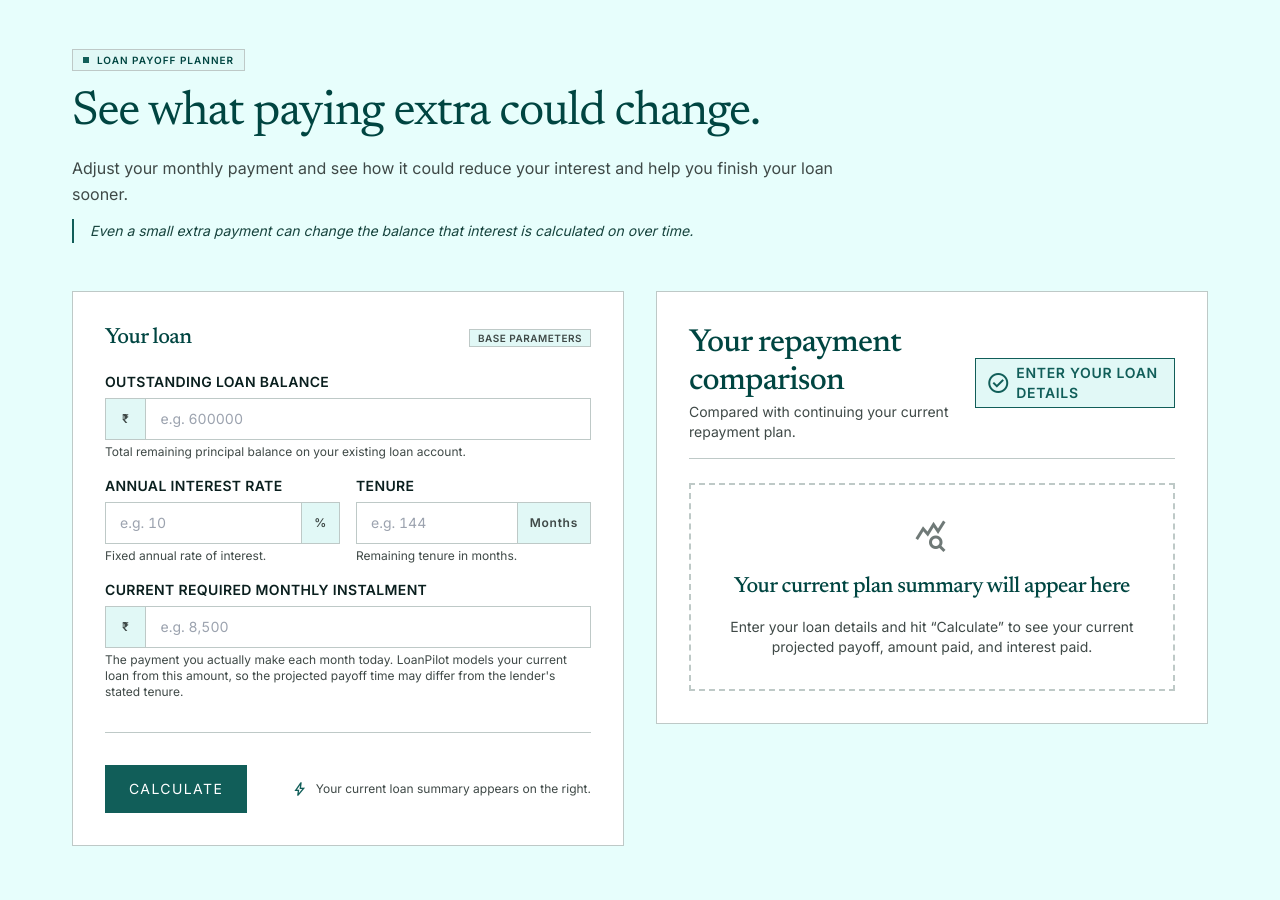
Test: EMI guidance and auto-scroll › scrolls to the current plan after the first successful baseline calculation
Type "8000" into the field labelled "Current required monthly instalment" at (368, 627), box left=146, top=607, right=590, bottom=647
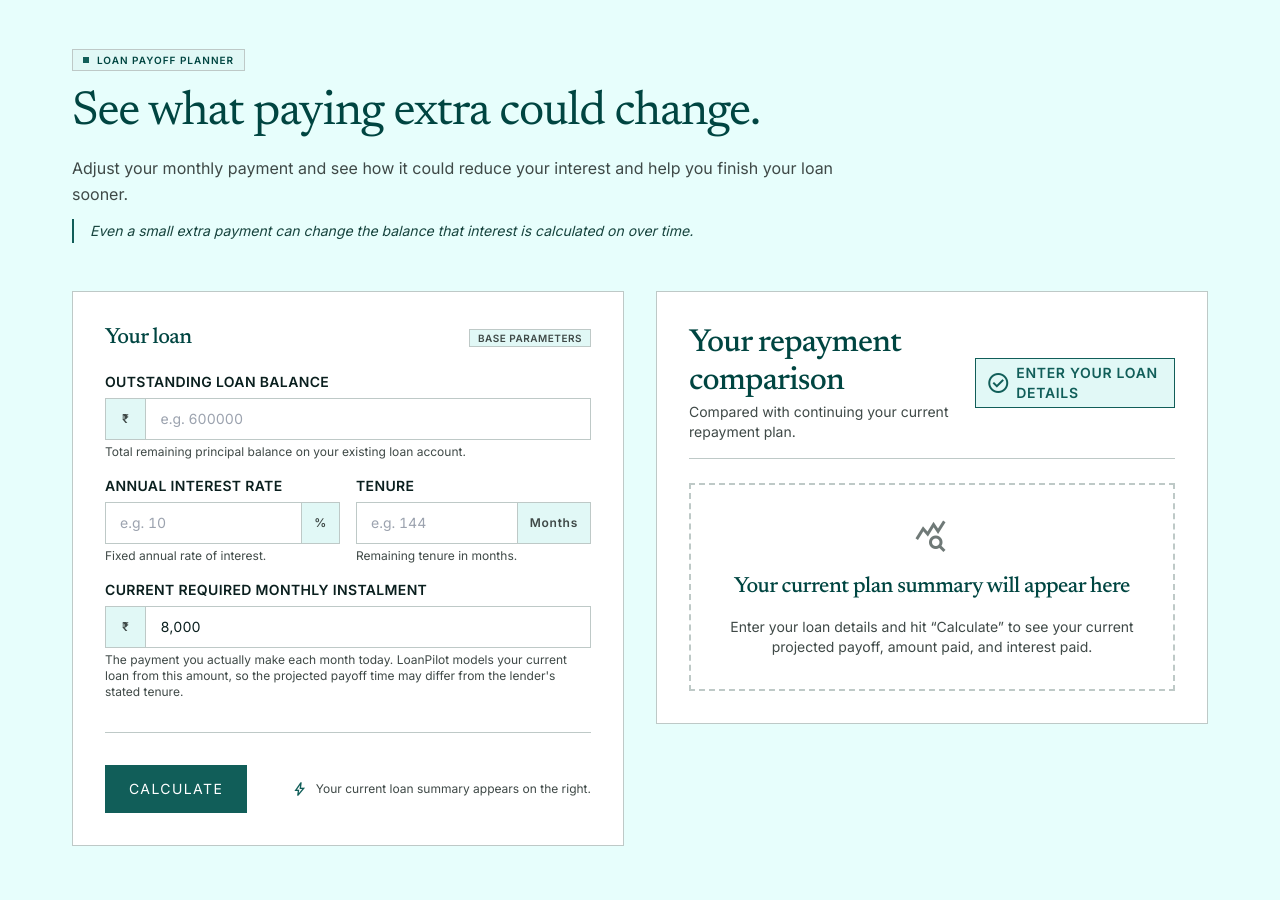
Type "600000" into the field labelled "Outstanding loan balance" at (368, 419), box left=146, top=399, right=590, bottom=439
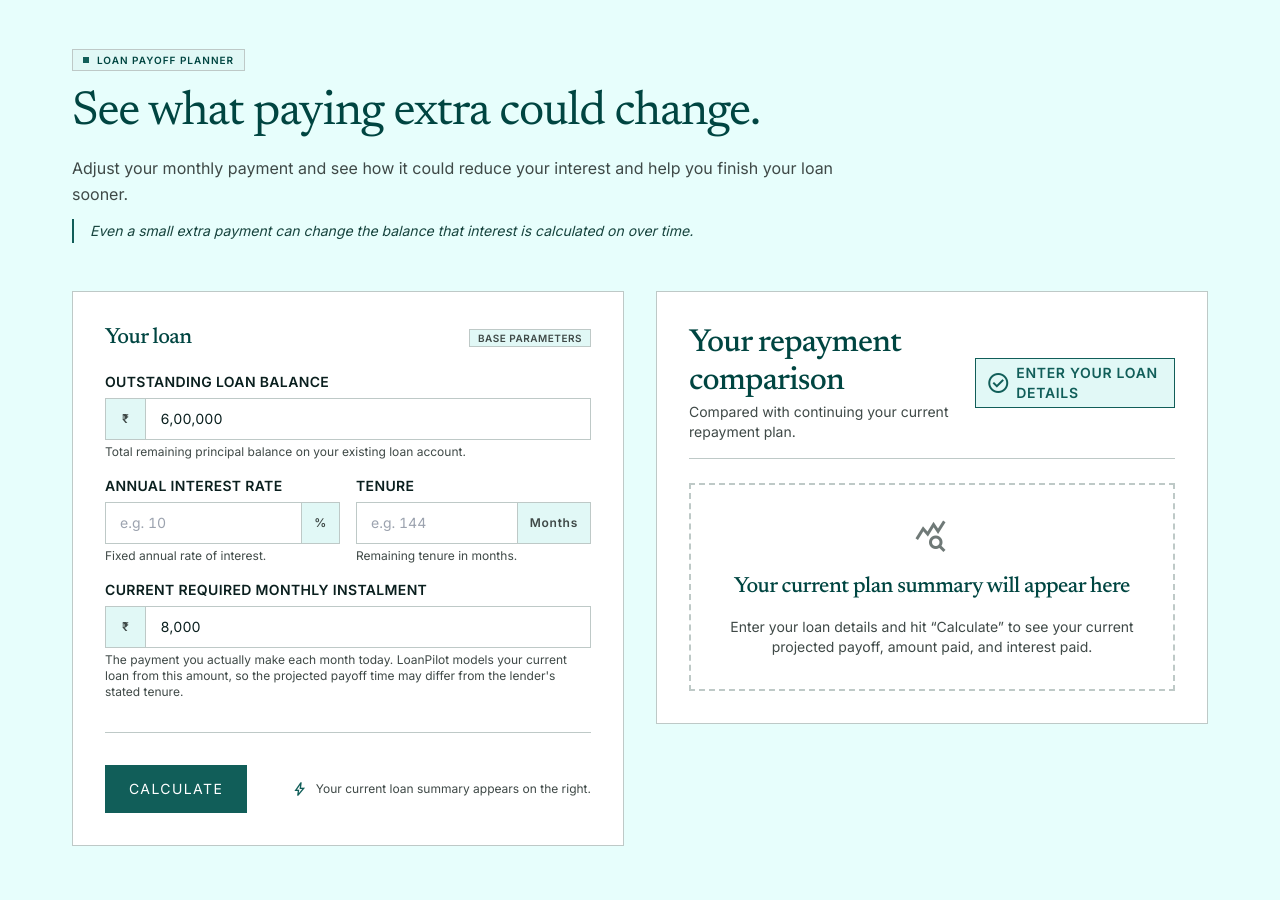
Type "8.5" into the field labelled "Annual interest rate" at (204, 523), box left=106, top=503, right=301, bottom=543
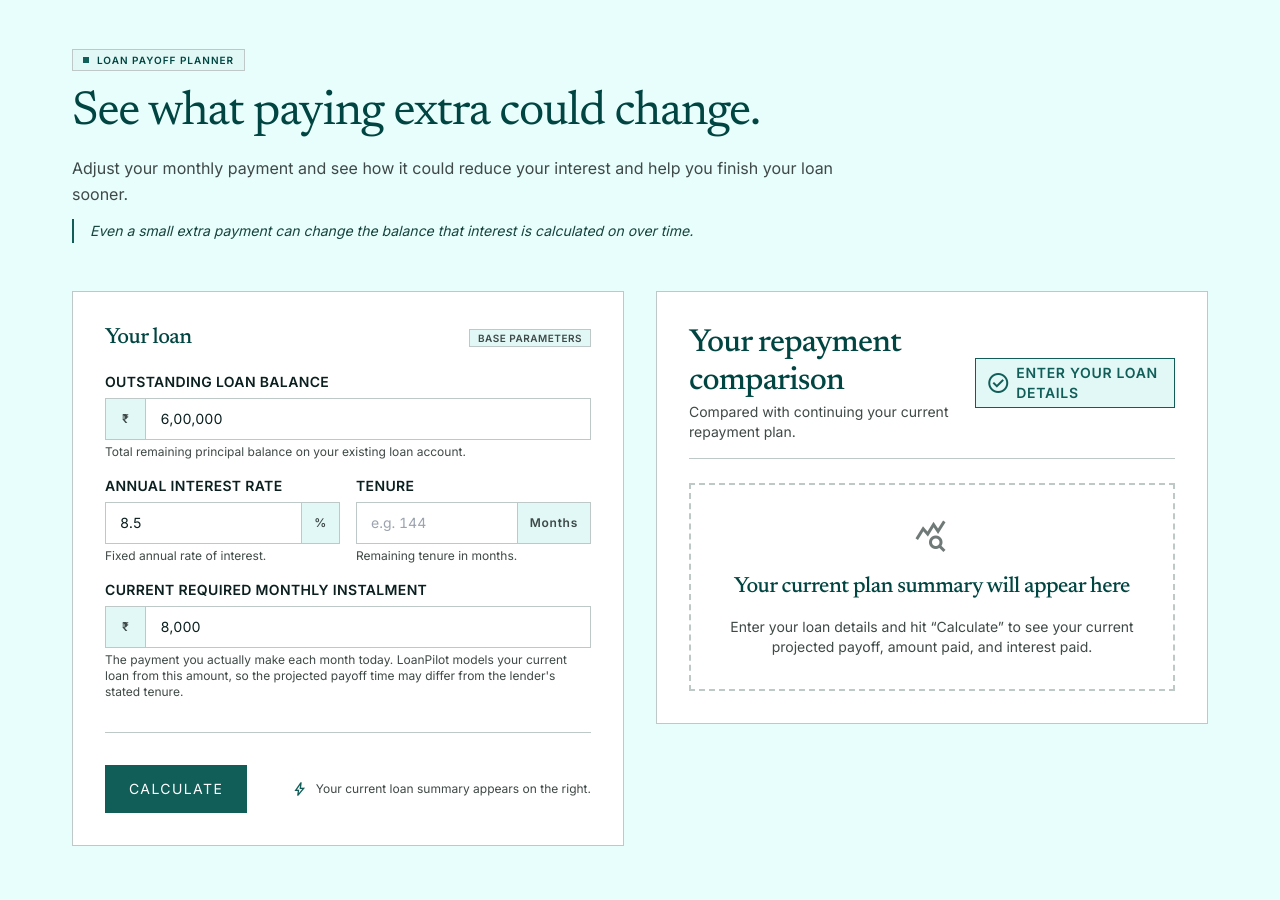
Type "180" into the field labelled "Tenure" at (437, 523), box left=357, top=503, right=517, bottom=543
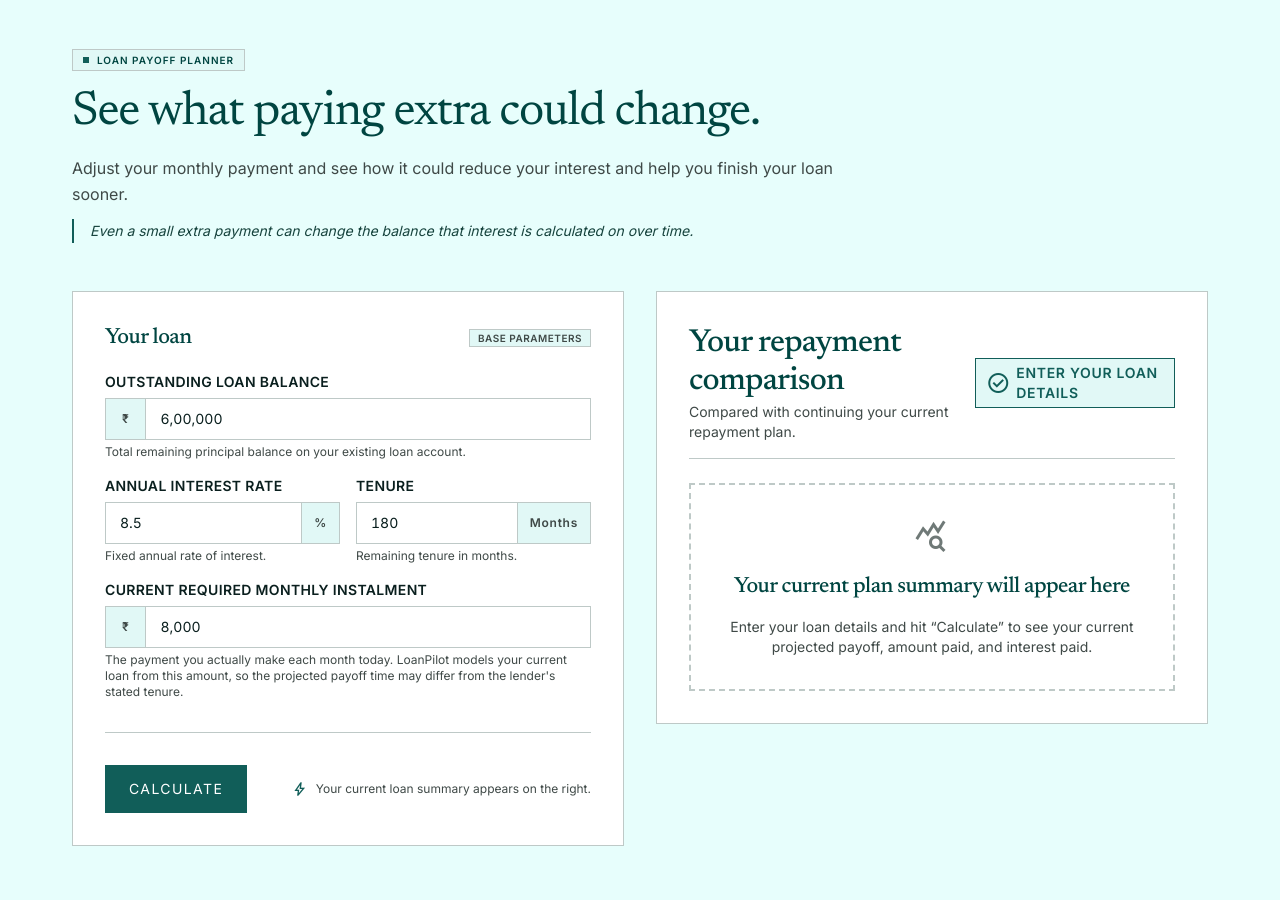
Click the button "Calculate" at (176, 789), box left=105, top=765, right=247, bottom=813
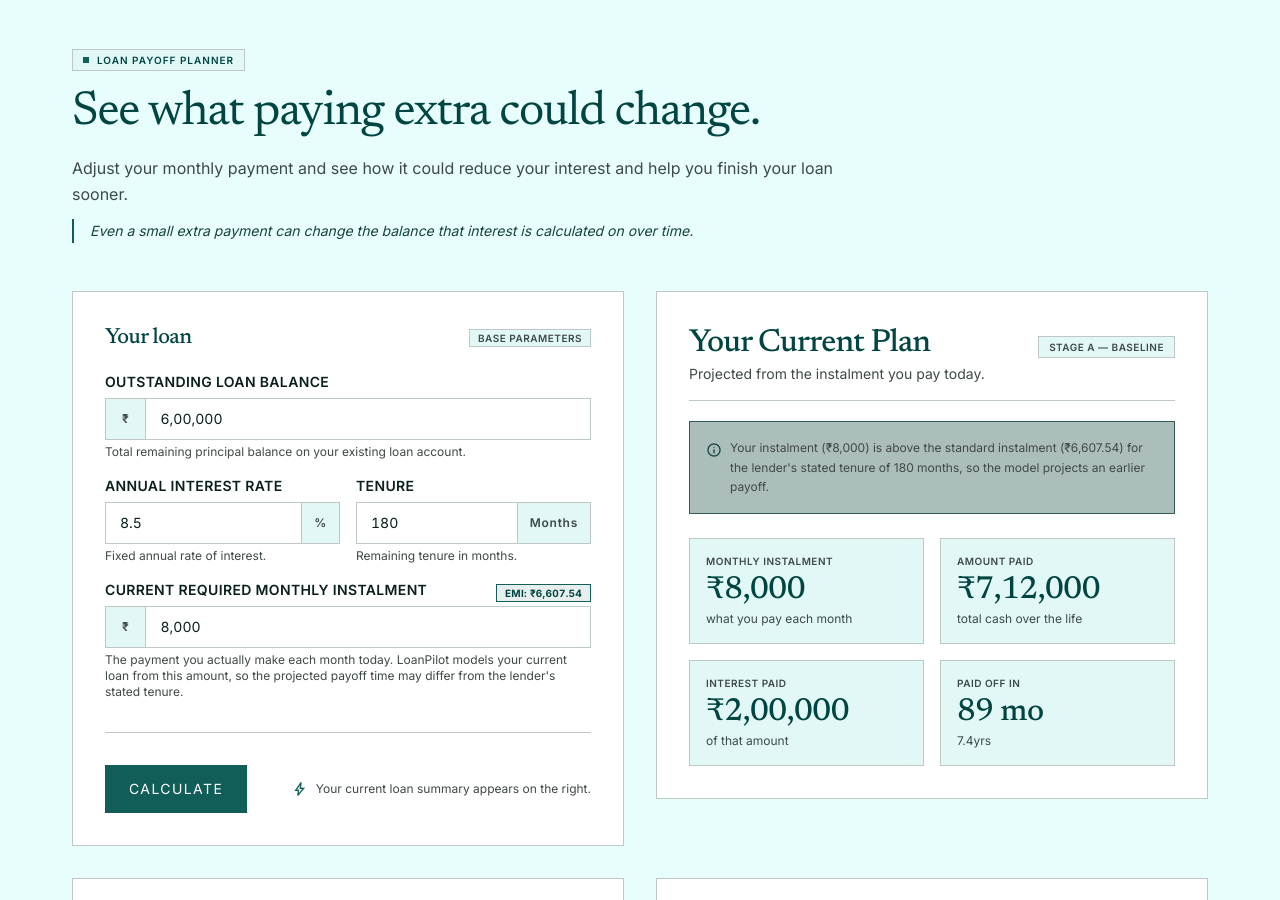
Expected: the heading "Your Current Plan" is shown, left=689, top=327, right=930, bottom=359
